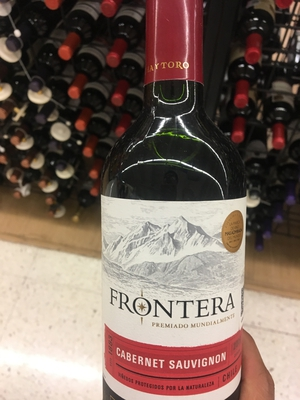frontera cabernet sauvignon: (93, 1, 269, 400)
